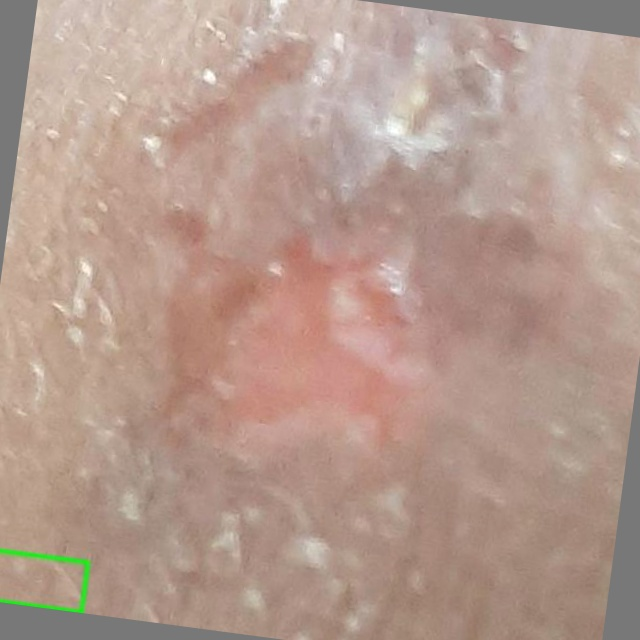Eczema: (0, 550, 88, 612)
